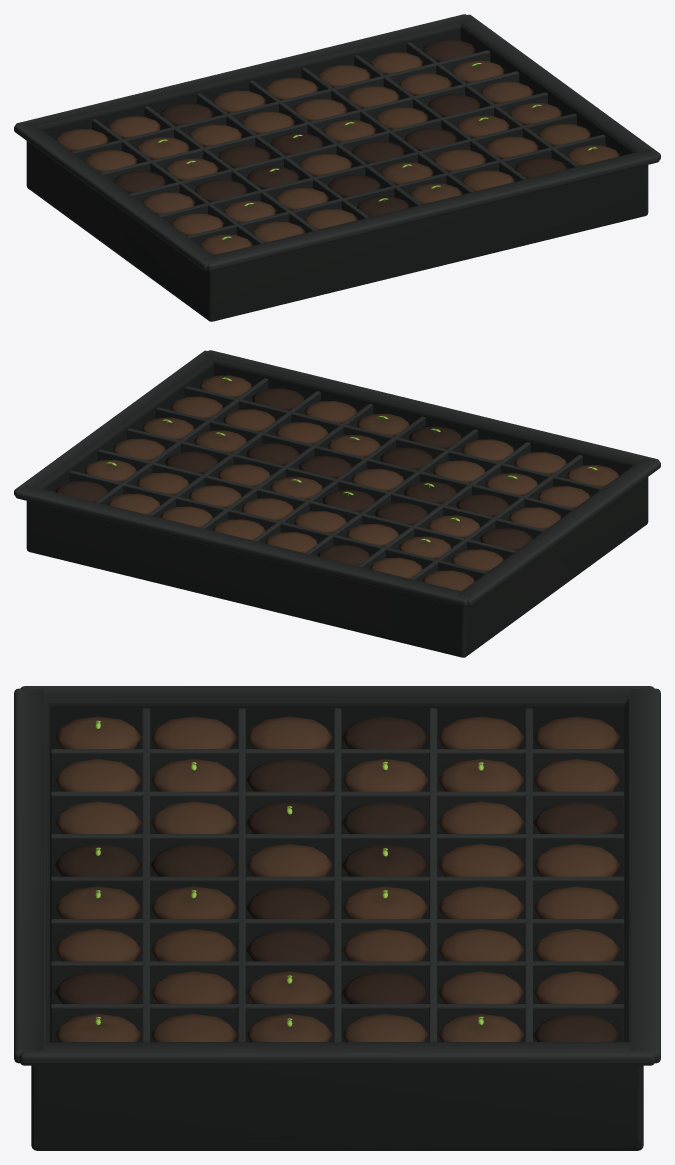
The model's file is canopy_seed_tray.glb.
3 views of the same model, one above another, from view 1: azimuth 30°, elevation 25°; view 2: azimuth 150°, elevation 25°; view 3: azimuth 270°, elevation 25° (orthographic). The views are drawn at different scales.
Visible parts, largest first — view 1: canopy_seed_tray; view 2: canopy_seed_tray; view 3: canopy_seed_tray.
Part boxes in pixels (x1,y1,x2,y2): canopy_seed_tray: (14, 14, 660, 321); canopy_seed_tray: (14, 350, 660, 657); canopy_seed_tray: (14, 686, 660, 1150).
Bounding box in the file's own units: 22.9 × 3.04 × 16.9.
